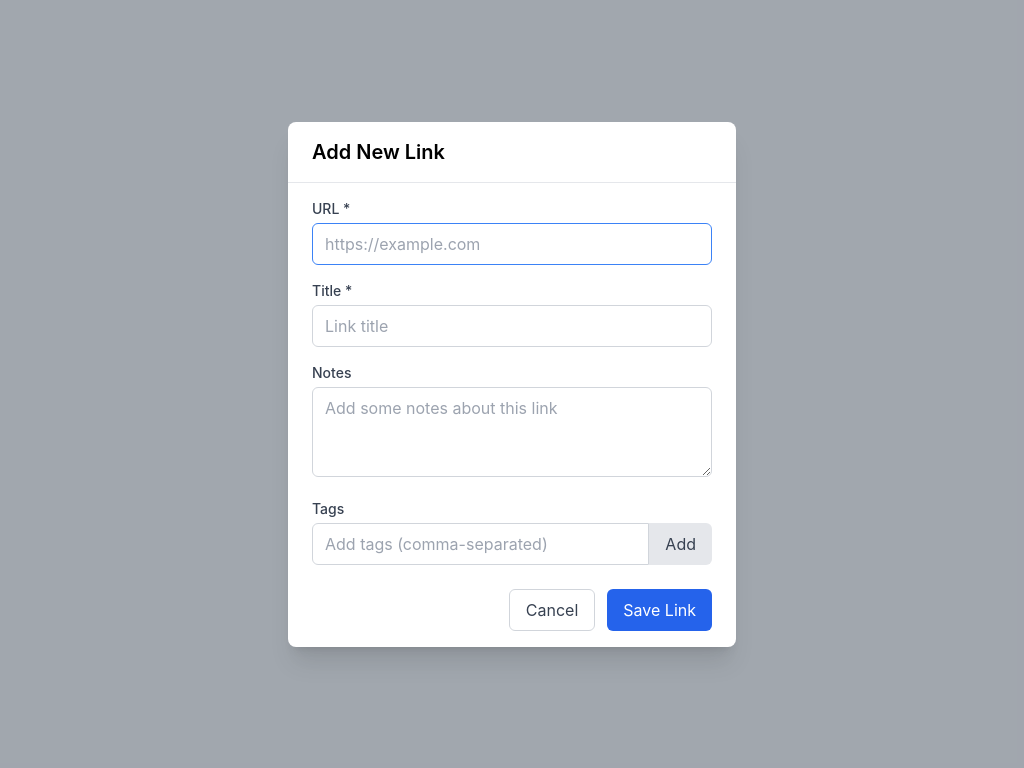
Test: Tag Input Functionality › should add multiple tags when comma-separated input is provided
# Enter comma-separated tags
Step 1. Type "react, node.js, typescript" into the field with placeholder "Add tags (comma-separated)" → (481,544), box left=312, top=522, right=649, bottom=564
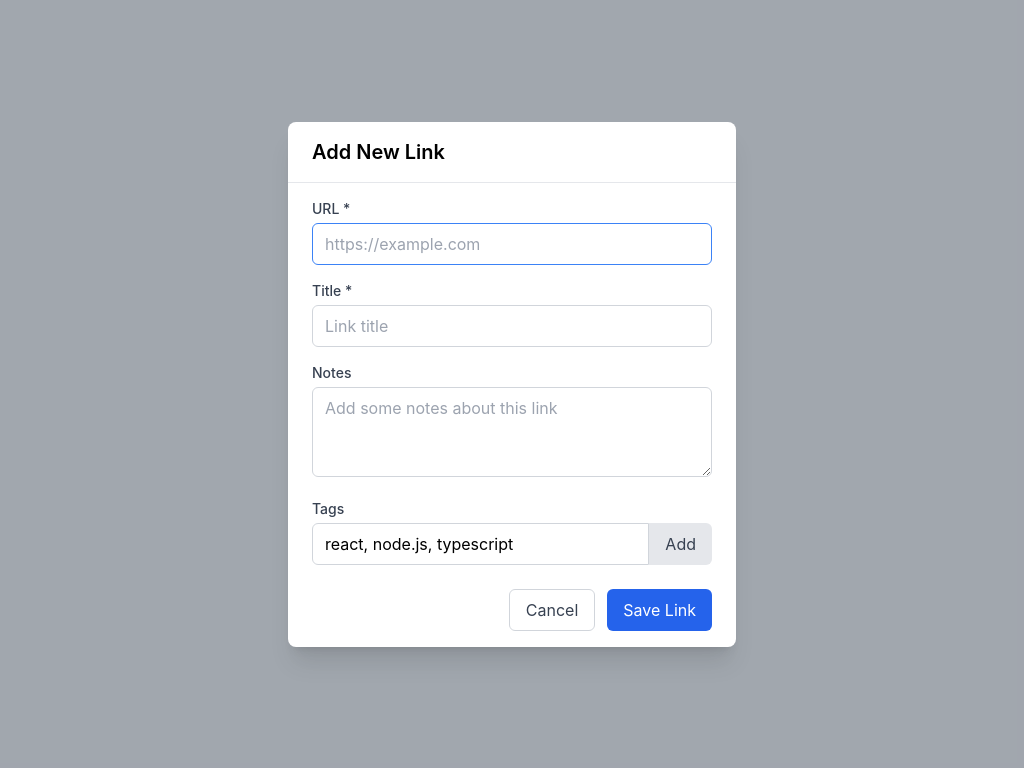
# Press Enter to add the tags
Step 2. Press Enter in the field with placeholder "Add tags (comma-separated)", box left=312, top=522, right=649, bottom=564
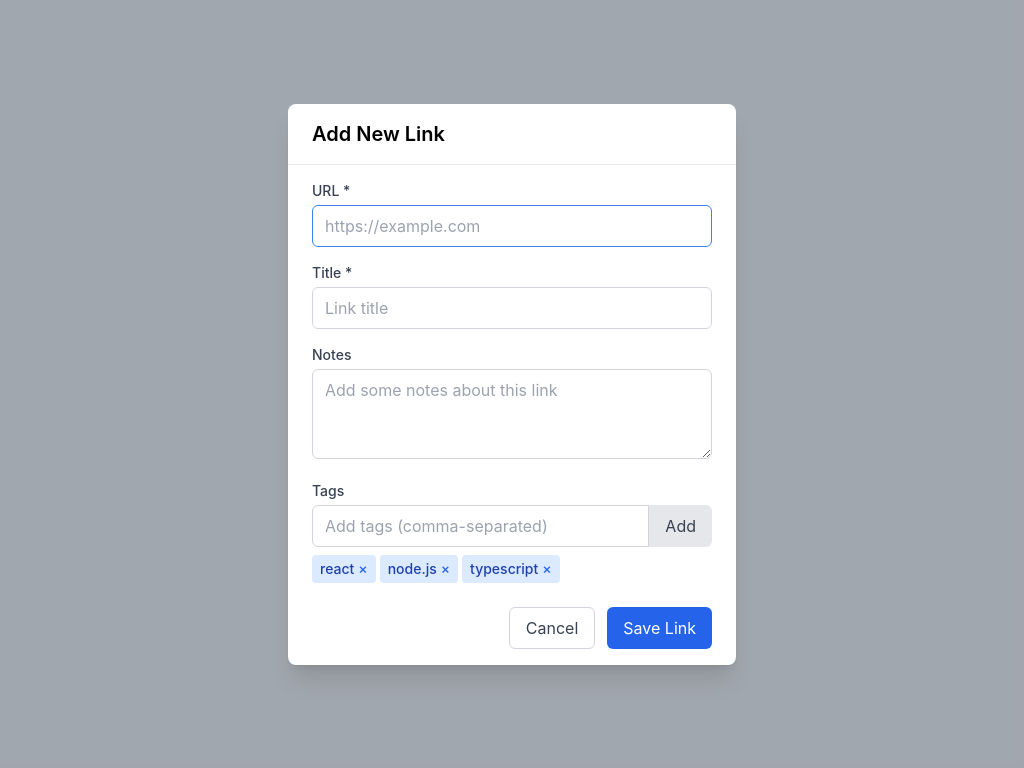
expect the text "node.js" is shown: met, box left=388, top=560, right=437, bottom=576
expect the text "typescript" is shown: met, box left=470, top=560, right=538, bottom=576
expect the field with placeholder "Add tags (comma-separated)" is empty: met, box left=312, top=504, right=649, bottom=546
